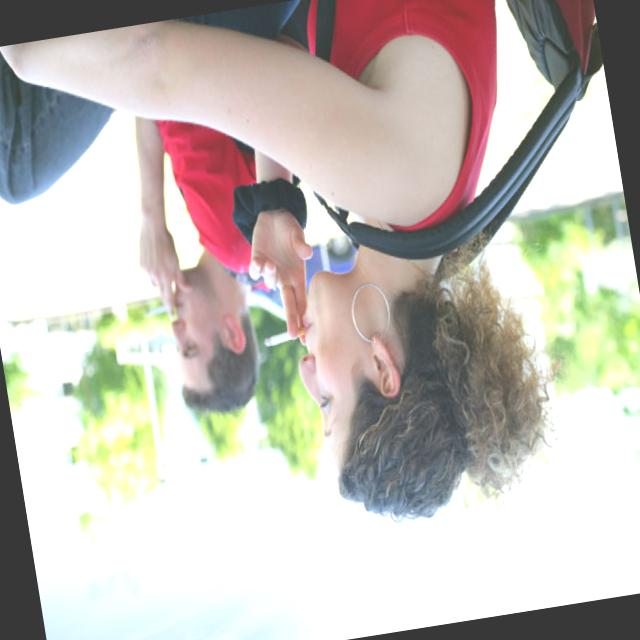cigarette: (267, 329, 296, 347)
